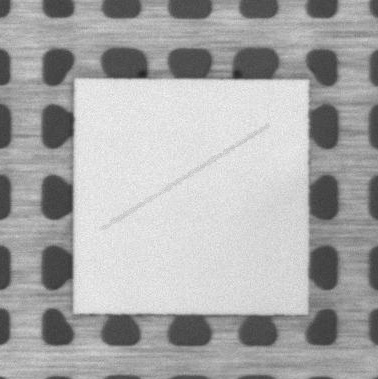DIE_CRACK: (102, 125, 268, 230)
